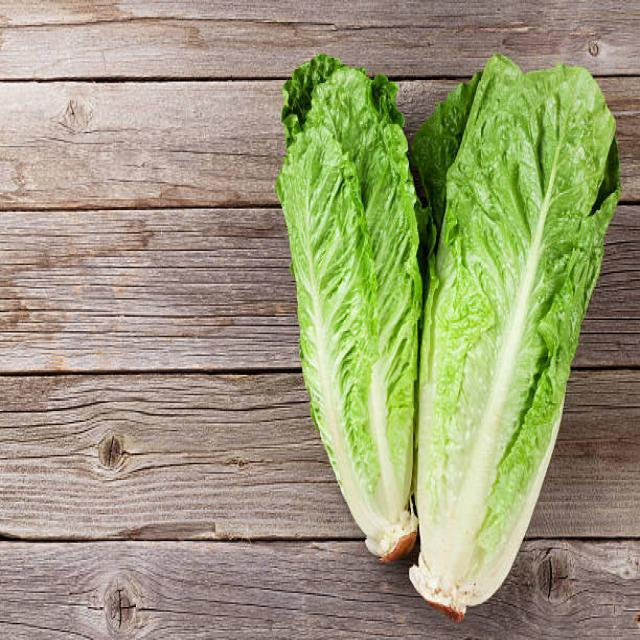Lettuce-Ready-to-Harvest: (410, 56, 620, 616), (276, 55, 421, 559)
